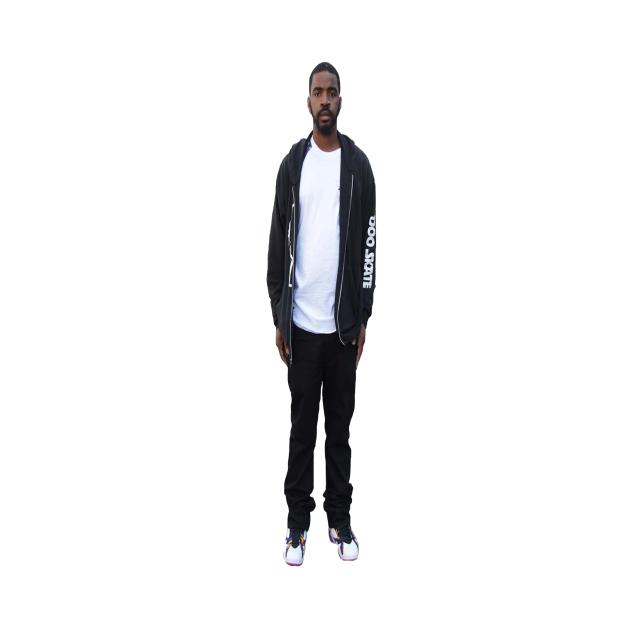jovem: (259, 52, 386, 584)
